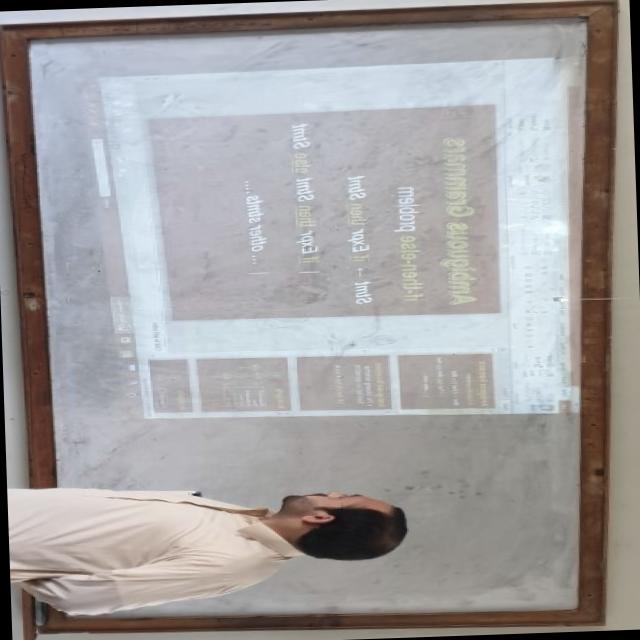Instructor: (6, 476, 418, 606)
Slide: (71, 58, 597, 422)
White-board: (12, 4, 603, 626)
